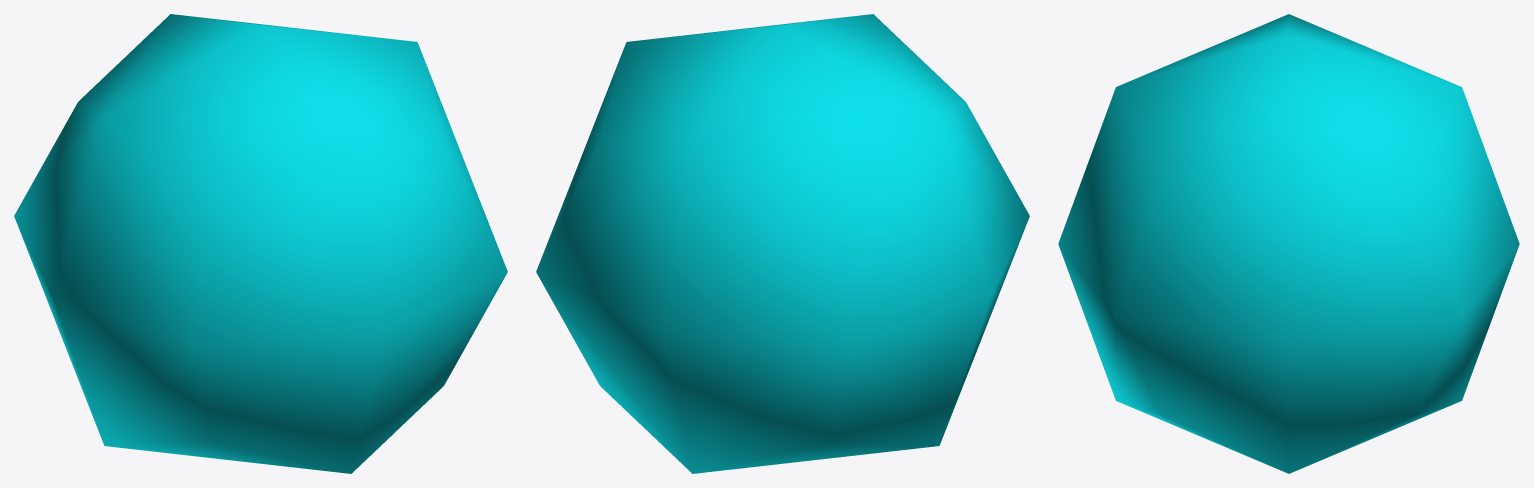
File: esxolus_bomber_bomb_model.fbx
3 renders of one model, left to right at view 1: azimuth 30°, elevation 25°; view 2: azimuth 150°, elevation 25°; view 3: azimuth 270°, elevation 25°, orthographic. The views are drawn at different scales.
Visible parts, largest first — view 1: bomb1; view 2: bomb1; view 3: bomb1.
Boxes of the visible parts, <box> form: bomb1: <box>14,14,507,473</box>; bomb1: <box>536,14,1029,473</box>; bomb1: <box>1058,14,1519,473</box>.
Bounding box in the file's own units: 19.51 × 19.51 × 19.51.
